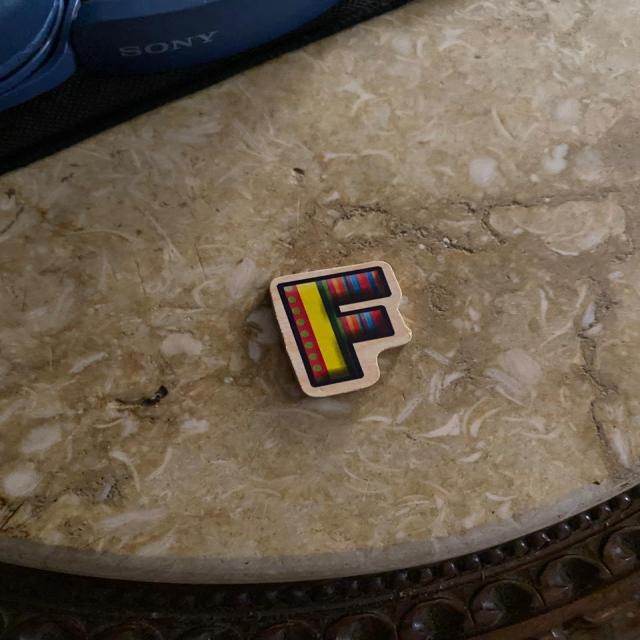F: (270, 261, 411, 397)
